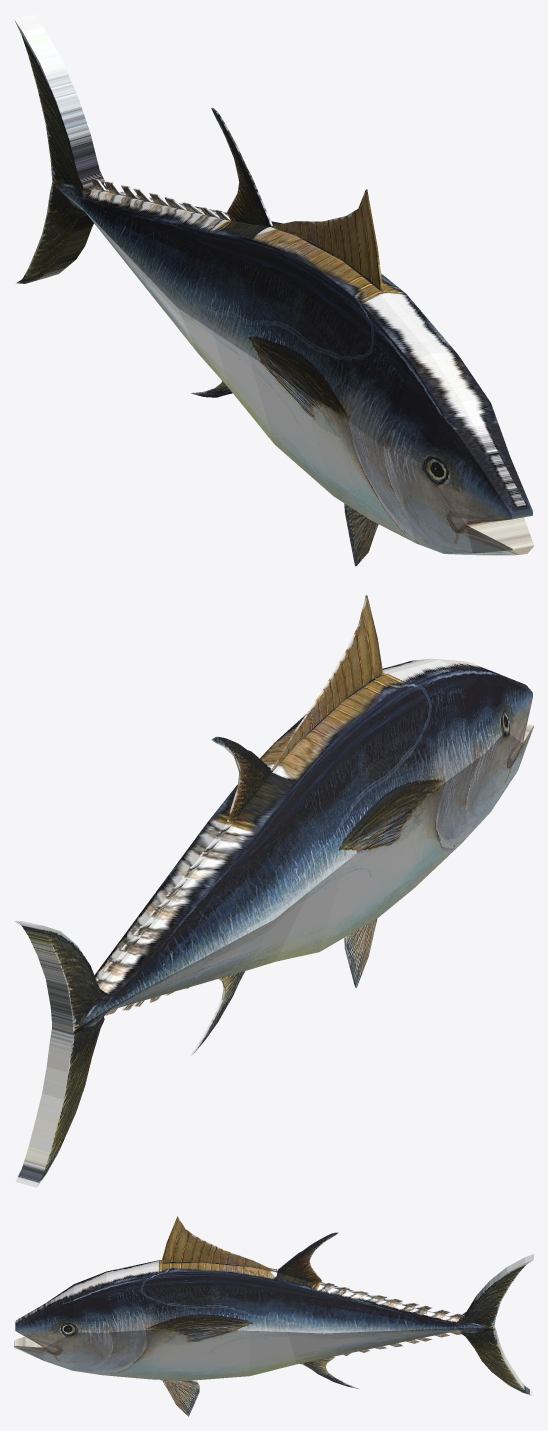
File: AR_Species_BluefinTuna.fbx
3 views of the same model, one above another, from view 1: azimuth 30°, elevation 25°; view 2: azimuth 150°, elevation 25°; view 3: azimuth 270°, elevation 25° (orthographic). The views are drawn at different scales.
Parts seen in each view (by area): view 1: Body.002; view 2: Body.002; view 3: Body.002.
Part boxes in pixels (box(x1,y1,x2,y2)): Body.002: box(14, 14, 533, 566); Body.002: box(14, 595, 533, 1187); Body.002: box(14, 1216, 533, 1416).
Size of the model in its own units: 51.89 by 197 by 463.
1 material, 1 textured.
